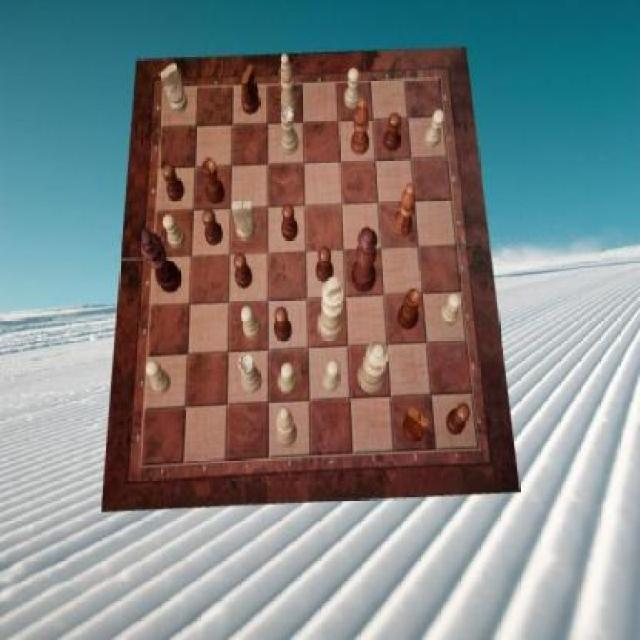bishop: (394, 183, 417, 238), (351, 99, 370, 156)
black-bishop: (140, 228, 182, 293)
black-king: (403, 406, 431, 444), (242, 64, 260, 116)
black-knight: (163, 165, 184, 202), (446, 405, 470, 437), (202, 210, 222, 246), (234, 252, 253, 288), (383, 114, 401, 152), (315, 246, 333, 282), (274, 306, 291, 342), (282, 203, 298, 241)
black-pawn: (350, 228, 378, 294)
black-queen: (203, 157, 226, 203), (398, 288, 422, 330)
black-rook: (278, 54, 298, 114), (275, 408, 298, 448)
white-bishop: (318, 276, 346, 342)
white-king: (160, 63, 188, 114), (232, 200, 256, 242)
white-knight: (146, 360, 171, 395), (424, 109, 446, 148), (163, 215, 186, 250), (440, 294, 462, 328), (242, 305, 262, 339), (278, 361, 298, 394), (345, 69, 360, 109), (322, 358, 339, 392)
white-pawn: (357, 340, 389, 394)
white-queen: (240, 354, 263, 394), (280, 108, 299, 155)
